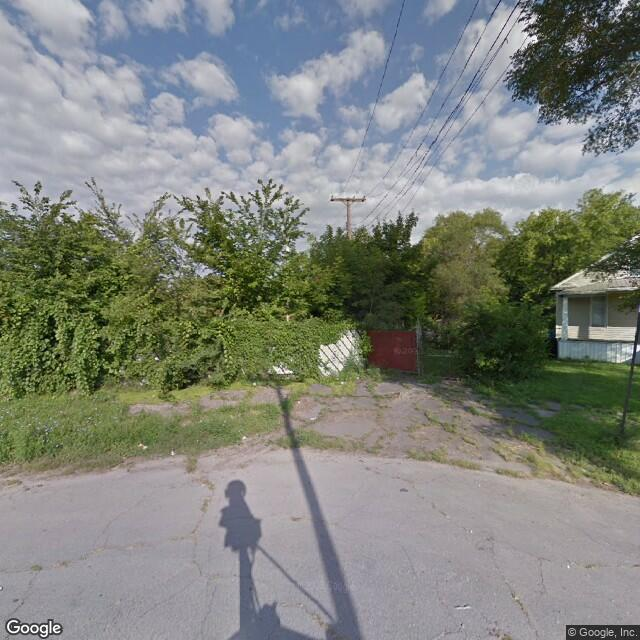litter: (139, 443, 149, 450), (310, 414, 321, 418), (340, 378, 347, 384), (356, 373, 361, 381), (171, 449, 175, 458), (243, 433, 247, 439), (252, 380, 256, 383), (297, 401, 302, 403)
